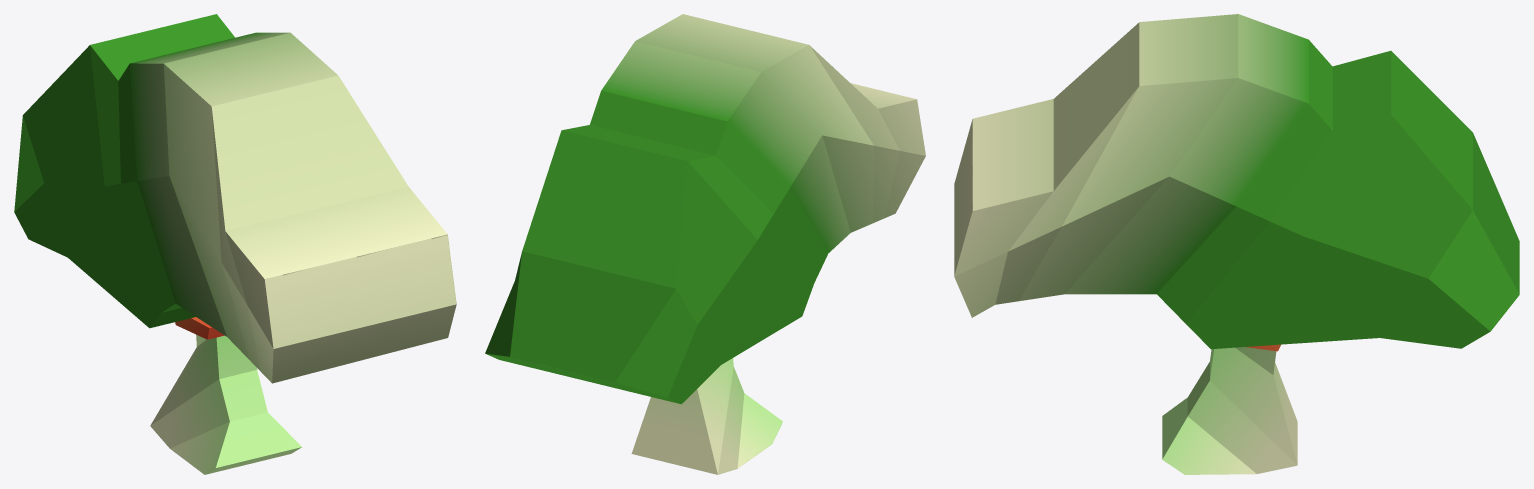
The model's file is Spinach.glb.
3 renders of one model, left to right at view 1: azimuth 30°, elevation 25°; view 2: azimuth 150°, elevation 25°; view 3: azimuth 270°, elevation 25°, orthographic. The views are drawn at different scales.
Parts seen in each view (by area): view 1: Cube.001, Cube, Cube.002; view 2: Cube.001, Cube; view 3: Cube.001, Cube.
Boxes of the visible parts, <box> form: Cube.001: <box>14,14,456,383</box>; Cube: <box>150,322,301,474</box>; Cube.002: <box>175,317,224,339</box>; Cube.001: <box>485,14,925,404</box>; Cube: <box>631,358,782,474</box>; Cube.001: <box>954,14,1519,349</box>; Cube: <box>1162,347,1297,474</box>.
Size of the model in its own units: 1.09 by 2.26 by 2.83.
Materials: 3 (3 with a texture image).
